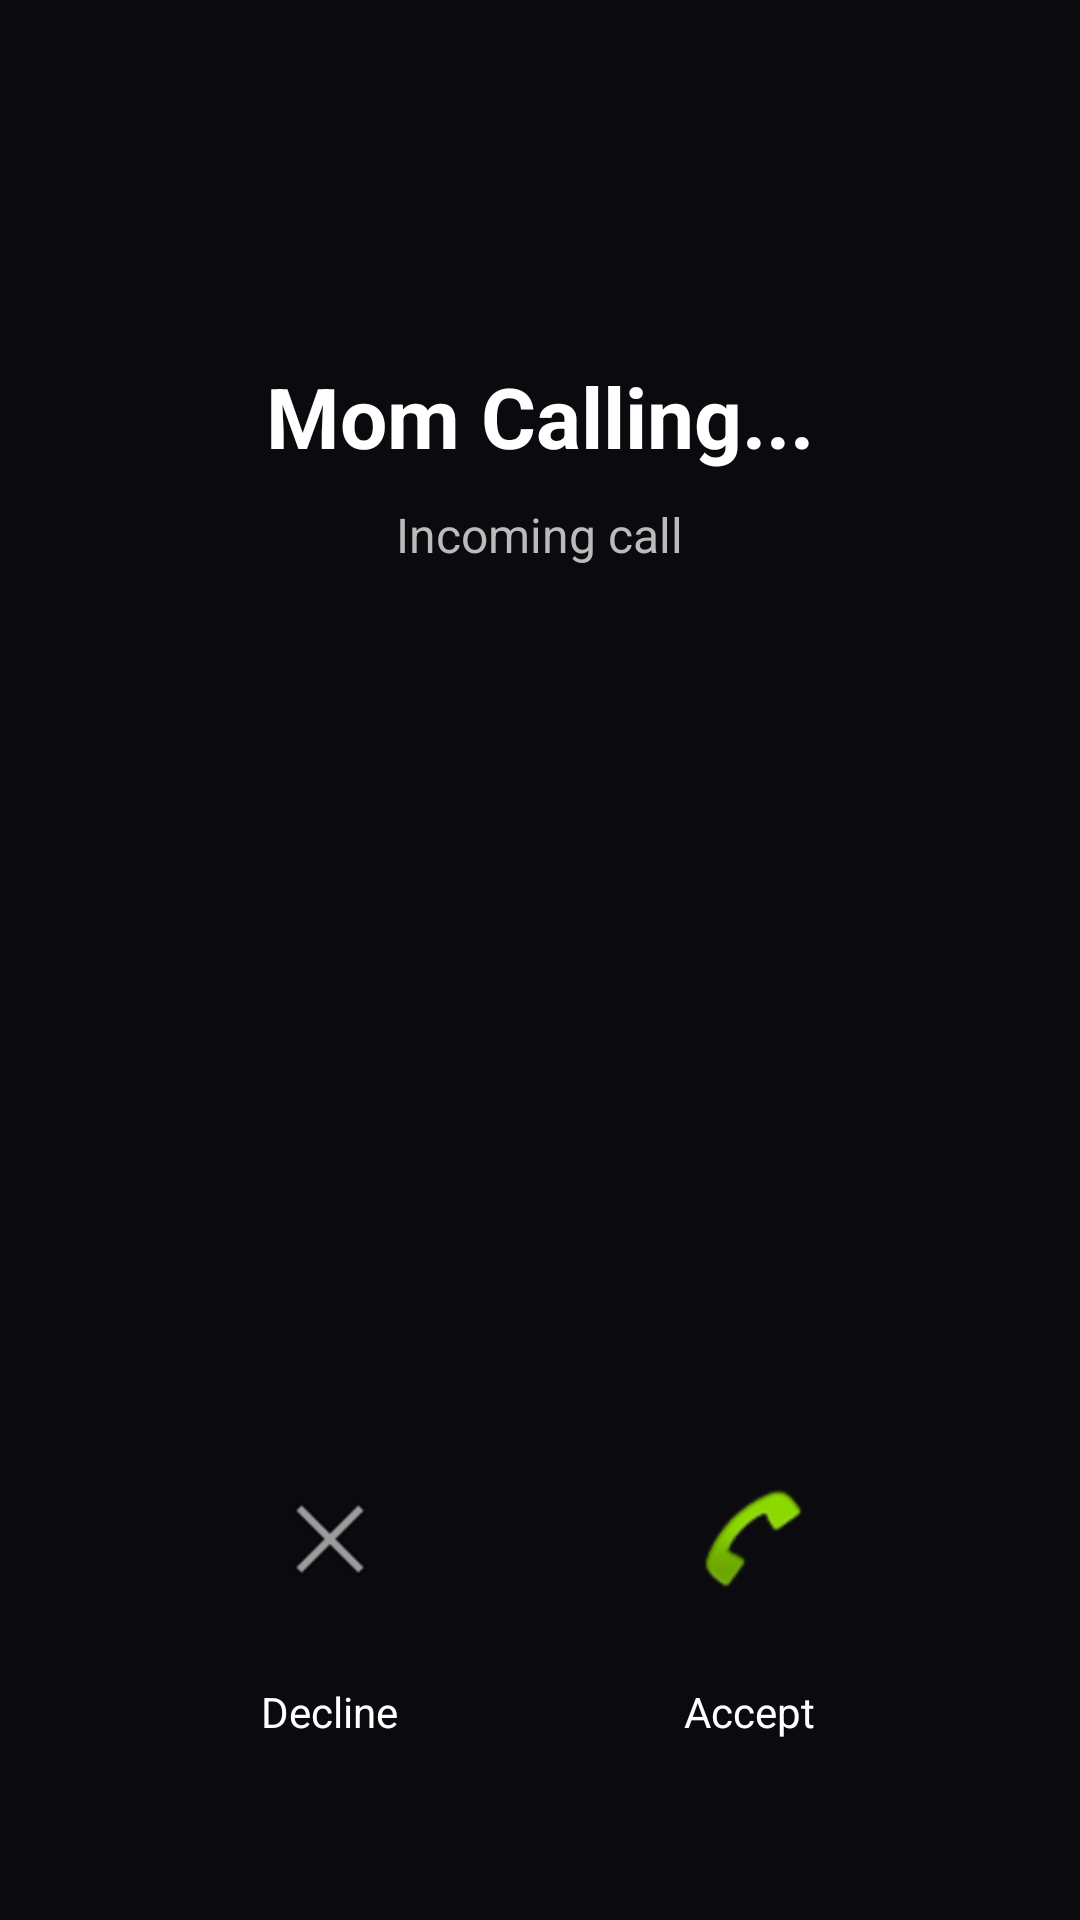

Icons on this 1080px×1920px Android screen, each with its box as region(x1, y1, x2, y2):
close clear cancel: region(296, 1505, 364, 1573)
sym action call: region(705, 1490, 801, 1587)
